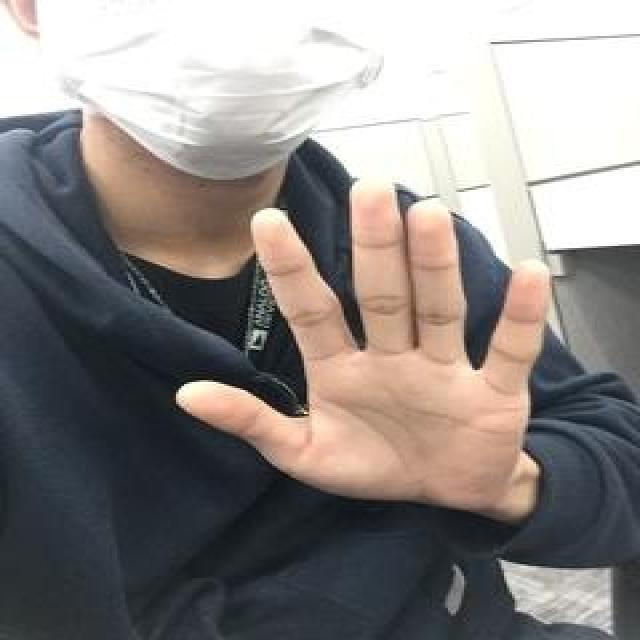no-gloves: (176, 173, 552, 523)
